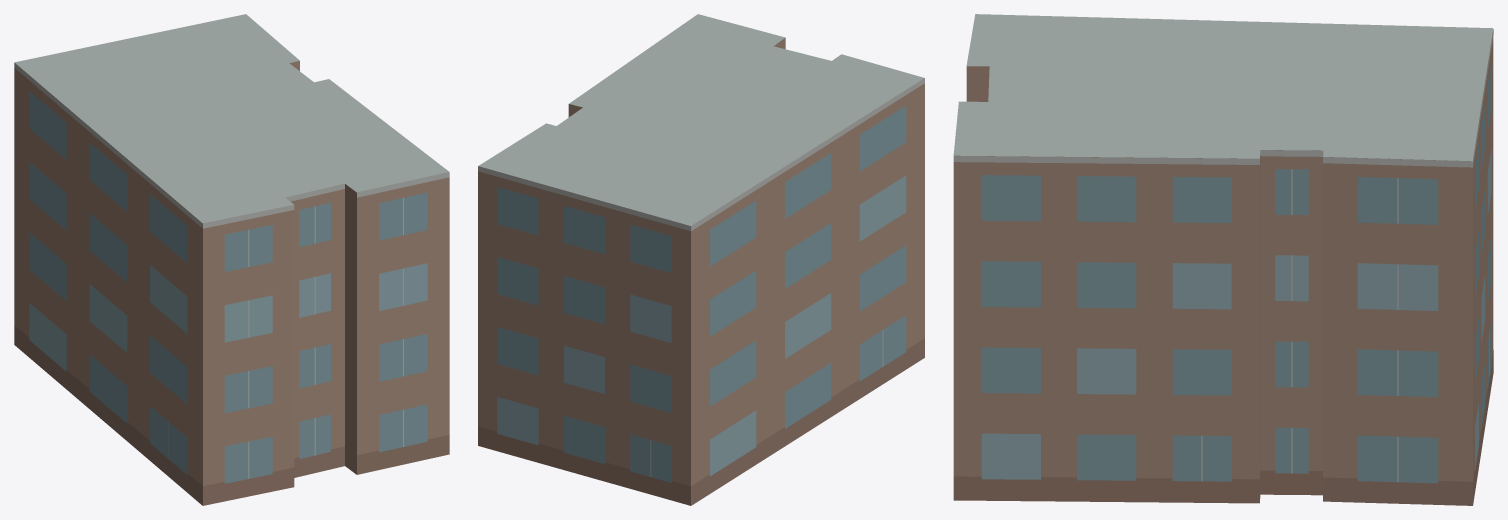
The model's file is survey-upis-32735227.glb.
3 renders of one model, left to right at view 1: azimuth 30°, elevation 25°; view 2: azimuth 150°, elevation 25°; view 3: azimuth 270°, elevation 25°, orthographic. The views are drawn at different scales.
Parts seen in each view (by area): view 1: survey-upis-32735227.tmp; view 2: survey-upis-32735227.tmp; view 3: survey-upis-32735227.tmp.
Part boxes in pixels (<box>): survey-upis-32735227.tmp: <box>14,14,449,505</box>; survey-upis-32735227.tmp: <box>478,14,924,505</box>; survey-upis-32735227.tmp: <box>953,14,1493,505</box>.
Size of the model in its own units: 12.1 by 13.2 by 18.75.
